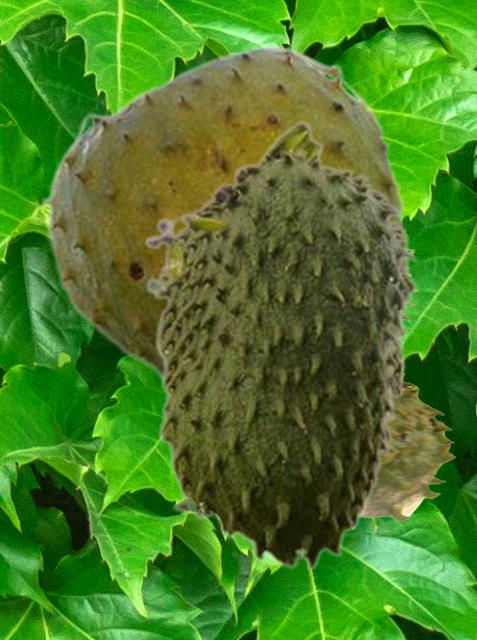guyabano: (39, 44, 418, 405), (145, 118, 418, 570), (363, 246, 455, 524)
